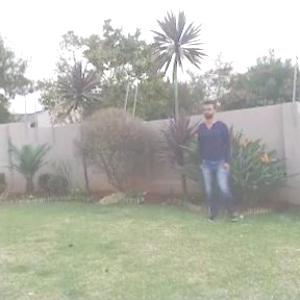follow: (198, 100, 234, 224)
